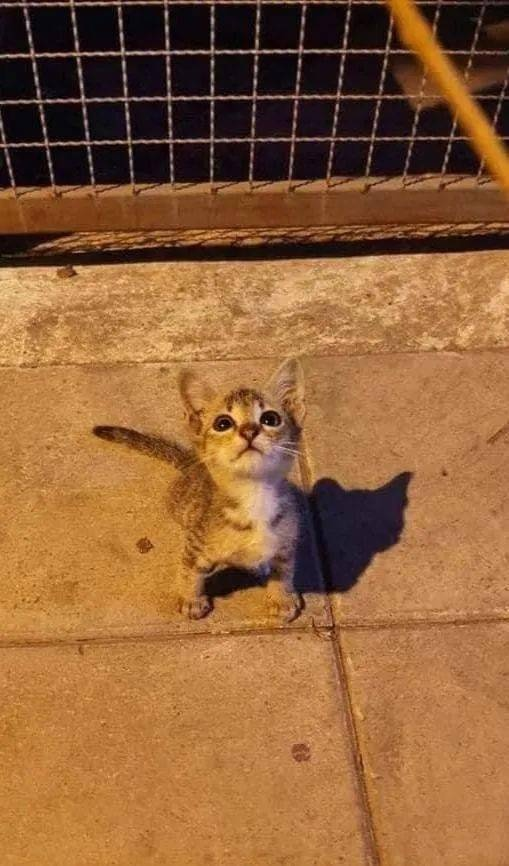cat: (92, 356, 306, 623)
